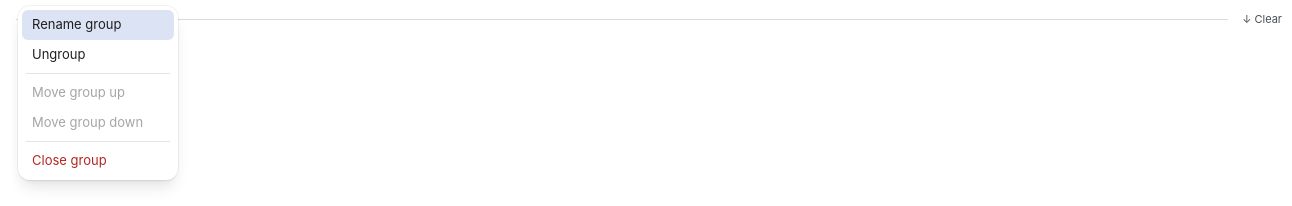
Test case: opens a name field that holds the host, and sends the new name on Enter
Click the menu item "Rename group" at [98, 25], box [22,10,174,40]
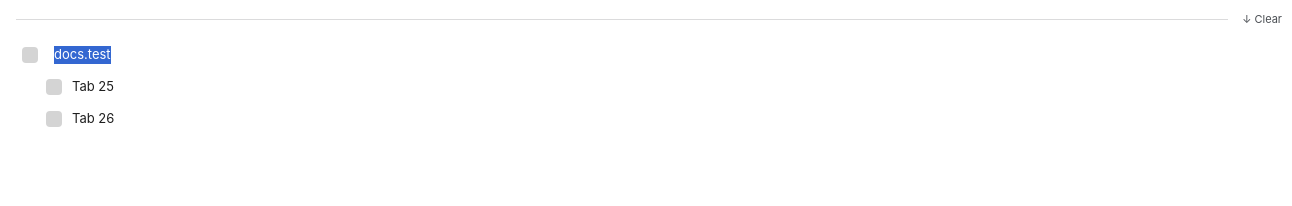
Replace the text in the field named "Name of docs.test" with "Reading list" at [665, 55], box [48,44,1282,66]
Then press Enter
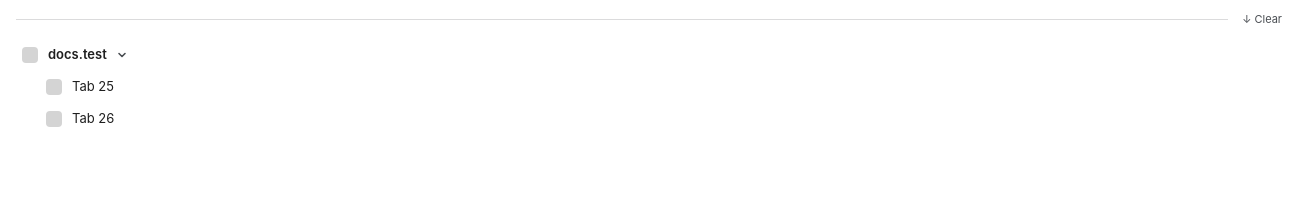
Expected: the field is gone
Expected: the button "docs.test" is shown, [12,39,1264,71]
